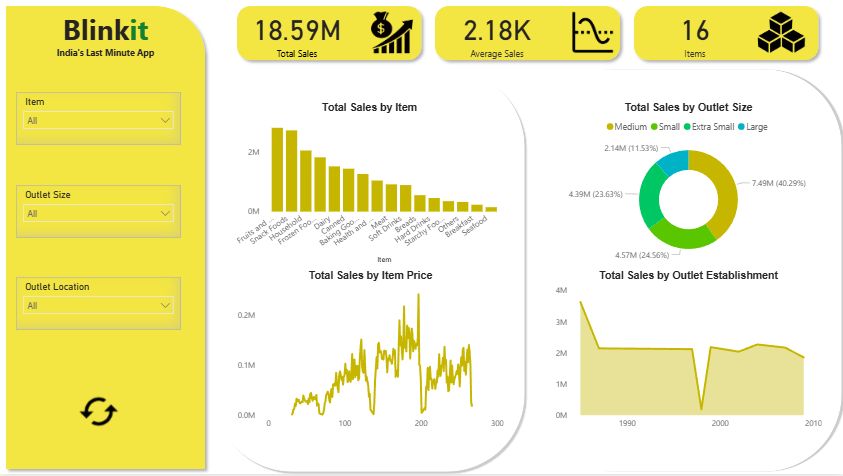

The page's visual inventory and layout, read from the dashboard file:
{"tool":"powerbi","page":{"name":"Page 1","canvas":[1280,720],"ordinal":0},"visuals":[{"type":"shape","box":[0,0,320,720.4],"z":0},{"type":"shape","box":[320,100.1,480.8,620.3],"z":1000},{"type":"shape","box":[800,100.1,480.8,620.3],"z":2000},{"type":"textbox","box":[0,9.1,320,91],"z":3000},{"type":"slicer","fields":{"Values":["Tableau BlinkIT Grocery Project.Item_Type"]},"box":[25,140,250,80],"z":4000},{"type":"slicer","fields":{"Values":["Tableau BlinkIT Grocery Project.Outlet_Size"]},"box":[25,280,250,80],"z":5000},{"type":"slicer","fields":{"Values":["Tableau BlinkIT Grocery Project.Outlet_Location_Type"]},"box":[25,420,250,80],"z":6000},{"type":"shape","box":[350,0,298,100.1],"z":7000},{"type":"shape","box":[651,0,298.8,100.1],"z":8000},{"type":"shape","box":[952.4,0,298,100.1],"z":9000},{"type":"card","fields":{"Values":["Tableau BlinkIT Grocery Project.Average Sales"]},"box":[653.6,0,200,100.1],"z":11000},{"type":"card","fields":{"Values":["Tableau BlinkIT Grocery Project.Items"]},"box":[953.9,0,200,100.1],"z":12000},{"type":"clusteredColumnChart","title":"Total Sales by Item","fields":{"Category":["Tableau BlinkIT Grocery Project.Item_Type"],"Y":["Tableau BlinkIT Grocery Project.Total Sales"]},"box":[353.4,154.7,414,250.2],"z":13000},{"type":"lineChart","fields":{"Category":["Tableau BlinkIT Grocery Project.Item_MRP"],"Y":["Tableau BlinkIT Grocery Project.Total Sales"]},"box":[354.9,410,414,250.2],"z":14000},{"type":"stackedAreaChart","fields":{"Category":["Tableau BlinkIT Grocery Project.Outlet_Establishment_Year"],"Y":["Tableau BlinkIT Grocery Project.Total Sales"]},"box":[837.2,410,414,250.2],"z":15000},{"type":"donutChart","title":"Total Sales by Outlet Size","fields":{"Category":["Tableau BlinkIT Grocery Project.Outlet_Size"],"Y":["Tableau BlinkIT Grocery Project.Total Sales"]},"box":[837.2,154.7,414,250.2],"z":16000},{"type":"card","fields":{"Values":["Tableau BlinkIT Grocery Project.Total Sales"]},"box":[350,0,200.2,100.1],"z":17000},{"type":"image","box":[549,9.1,91,80.4],"z":18000},{"type":"actionButton","box":[100.1,588.4,100.1,71.3],"z":19000},{"type":"image","box":[1140.5,9.1,89.5,80.4],"z":20000},{"type":"image","box":[853.8,9,90,80],"z":21000}]}

Visuals, with their boxes in screenshot pixels (x1, y1, x2, y2), scaled from the page's 1280x720 canvas onto the 843x476 screenshot:
shape: {"left": 0, "top": 0, "right": 211, "bottom": 475}
shape: {"left": 211, "top": 66, "right": 527, "bottom": 475}
shape: {"left": 527, "top": 66, "right": 842, "bottom": 475}
textbox: {"left": 0, "top": 6, "right": 211, "bottom": 66}
slicer - Tableau BlinkIT Grocery Project.Item_Type: {"left": 16, "top": 93, "right": 181, "bottom": 145}
slicer - Tableau BlinkIT Grocery Project.Outlet_Size: {"left": 16, "top": 185, "right": 181, "bottom": 238}
slicer - Tableau BlinkIT Grocery Project.Outlet_Location_Type: {"left": 16, "top": 278, "right": 181, "bottom": 331}
shape: {"left": 231, "top": 0, "right": 427, "bottom": 66}
shape: {"left": 429, "top": 0, "right": 626, "bottom": 66}
shape: {"left": 627, "top": 0, "right": 824, "bottom": 66}
card - Tableau BlinkIT Grocery Project.Average Sales: {"left": 430, "top": 0, "right": 562, "bottom": 66}
card - Tableau BlinkIT Grocery Project.Items: {"left": 628, "top": 0, "right": 760, "bottom": 66}
"Total Sales by Item" clusteredColumnChart: {"left": 233, "top": 102, "right": 505, "bottom": 268}
lineChart - Tableau BlinkIT Grocery Project.Item_MRP x Tableau BlinkIT Grocery Project.Total Sales: {"left": 234, "top": 271, "right": 506, "bottom": 436}
stackedAreaChart - Tableau BlinkIT Grocery Project.Outlet_Establishment_Year x Tableau BlinkIT Grocery Project.Total Sales: {"left": 551, "top": 271, "right": 824, "bottom": 436}
"Total Sales by Outlet Size" donutChart: {"left": 551, "top": 102, "right": 824, "bottom": 268}
card - Tableau BlinkIT Grocery Project.Total Sales: {"left": 231, "top": 0, "right": 362, "bottom": 66}
image: {"left": 362, "top": 6, "right": 422, "bottom": 59}
actionButton: {"left": 66, "top": 389, "right": 132, "bottom": 436}
image: {"left": 751, "top": 6, "right": 810, "bottom": 59}
image: {"left": 562, "top": 6, "right": 622, "bottom": 59}
